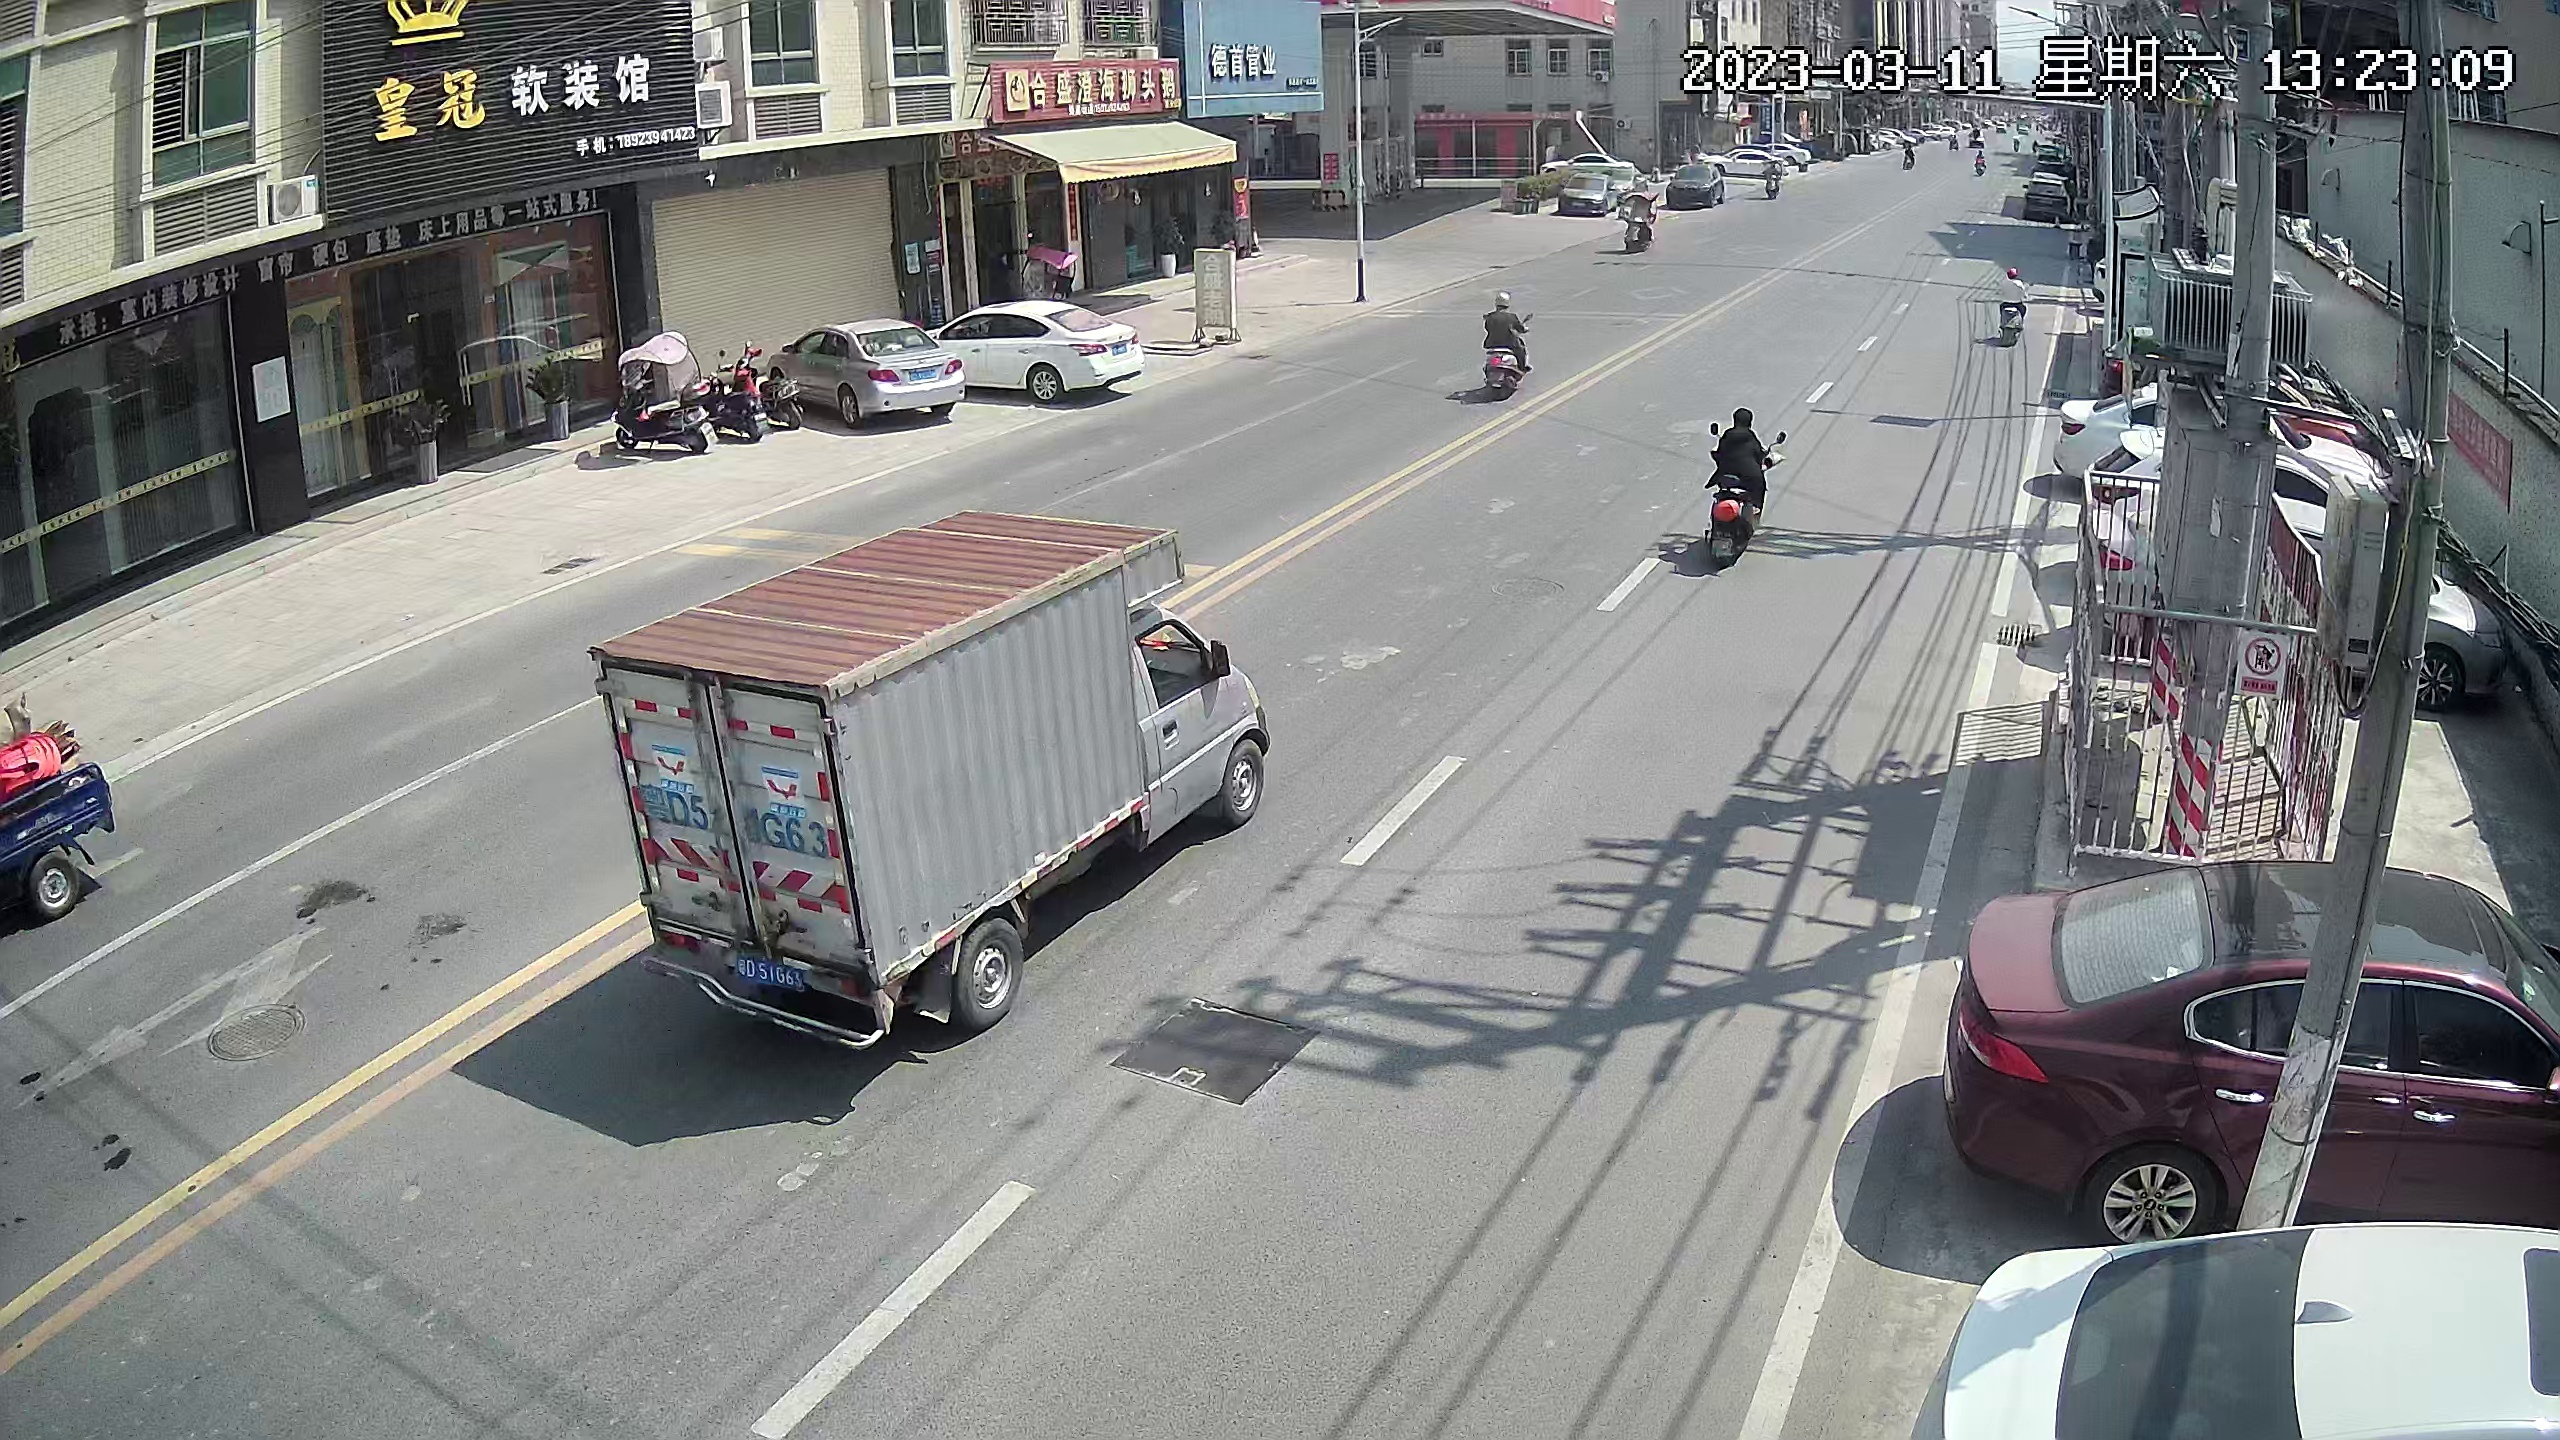motorcycle: (605, 339, 714, 457), (1704, 404, 1779, 573), (1477, 280, 1533, 404), (703, 345, 767, 438), (1994, 262, 2034, 353), (1614, 185, 1655, 255), (760, 353, 798, 425), (1758, 151, 1785, 193), (1973, 148, 1994, 179), (1902, 134, 1918, 171)
sedan: (1955, 853, 2555, 1233), (1929, 1234, 2553, 1440), (2098, 499, 2495, 680), (2092, 434, 2391, 499), (2069, 392, 2365, 455), (951, 308, 1145, 394), (789, 331, 964, 424), (1662, 164, 1720, 213), (1563, 167, 1609, 223), (2018, 171, 2064, 220), (1723, 144, 1751, 178)
tricycle: (2, 707, 107, 918)
truck: (593, 506, 1248, 1053)
